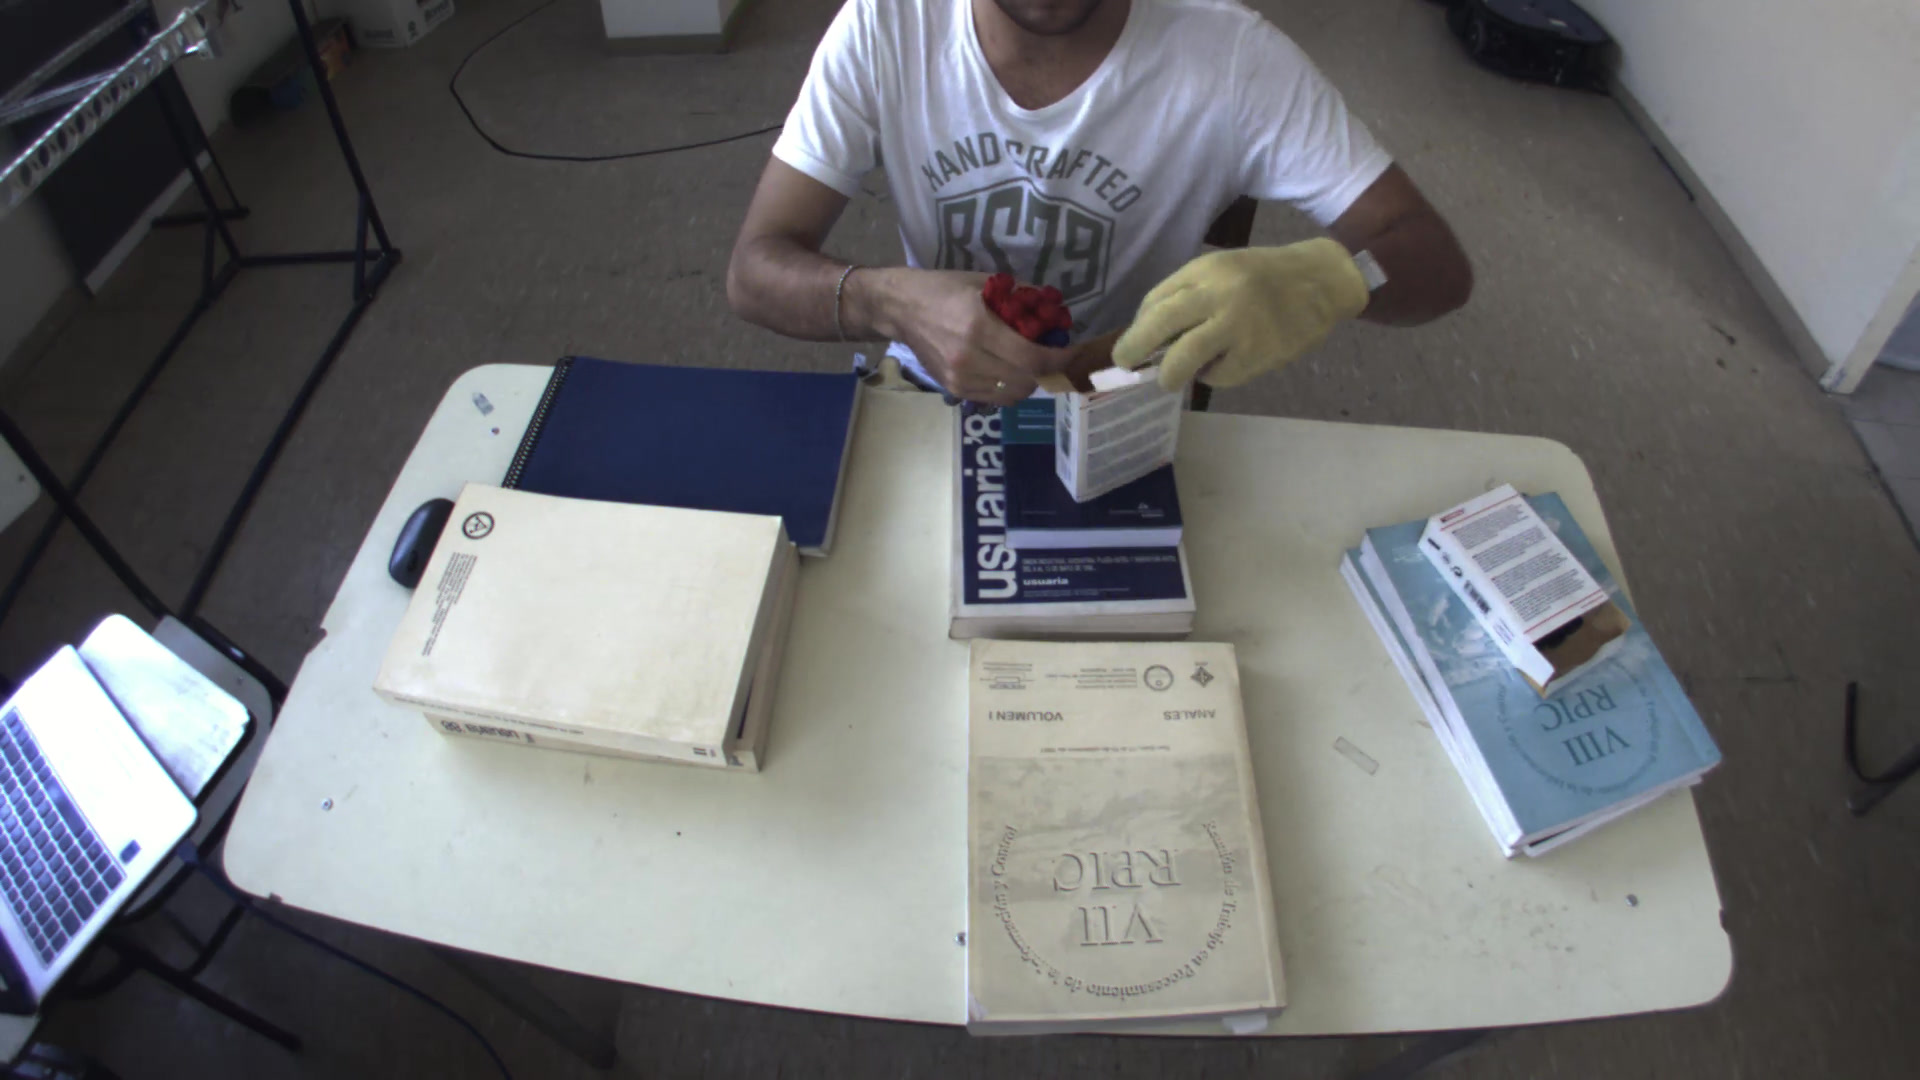hand: (1106, 215, 1393, 400), (849, 251, 1112, 409)
